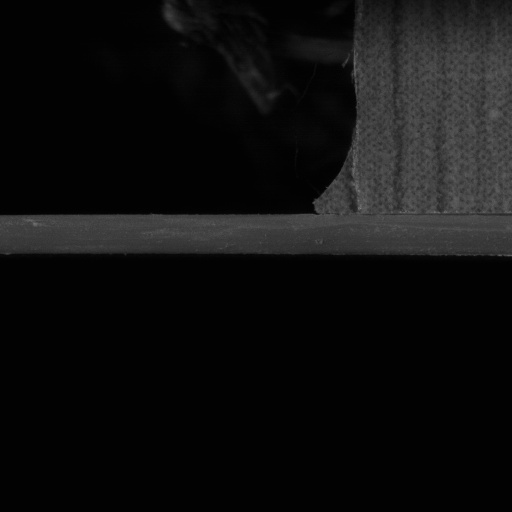changdai: (0, 210, 318, 258)
